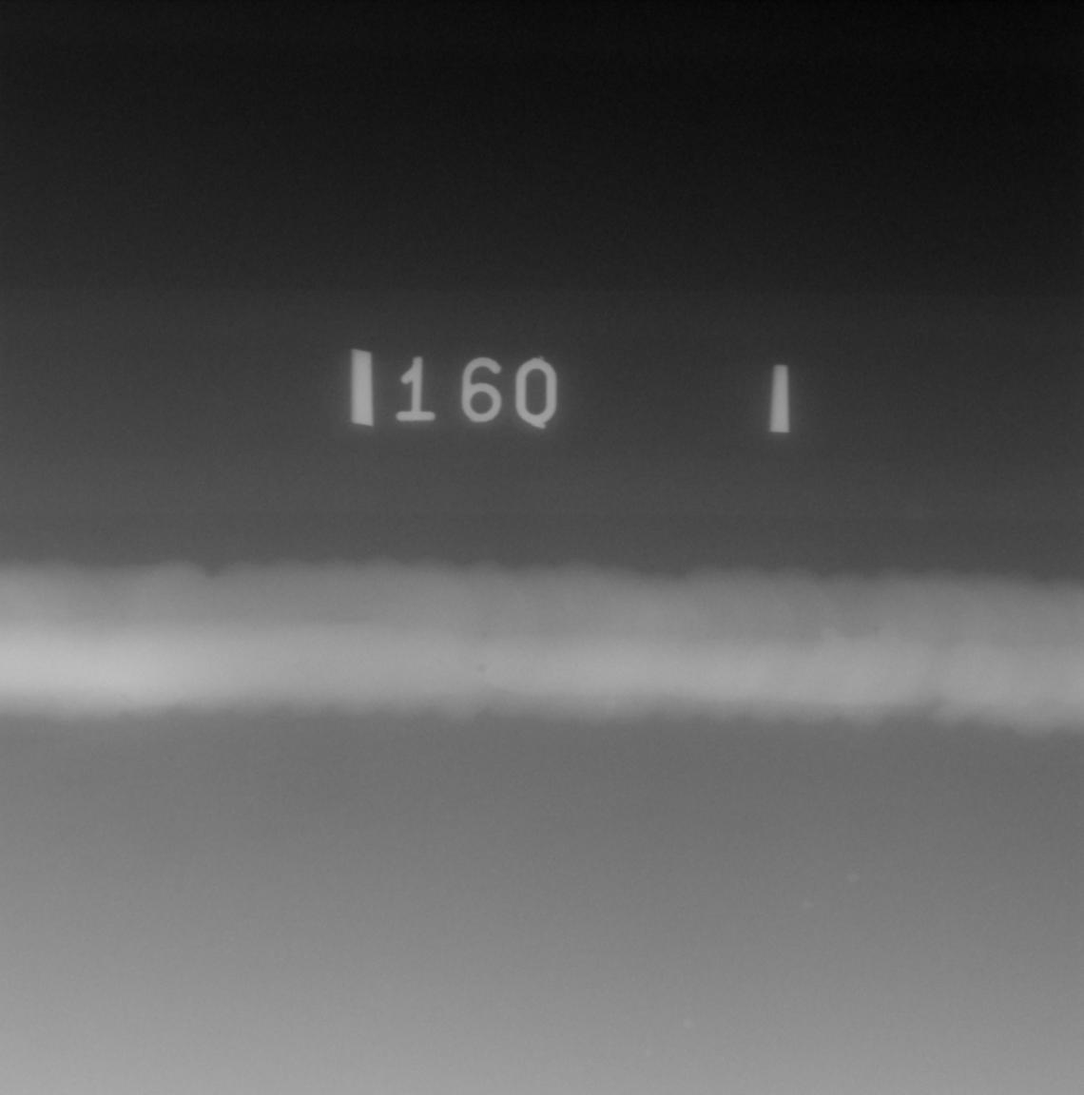Pore/Porosity: (123, 695, 132, 703), (479, 664, 487, 673), (874, 627, 878, 631)
